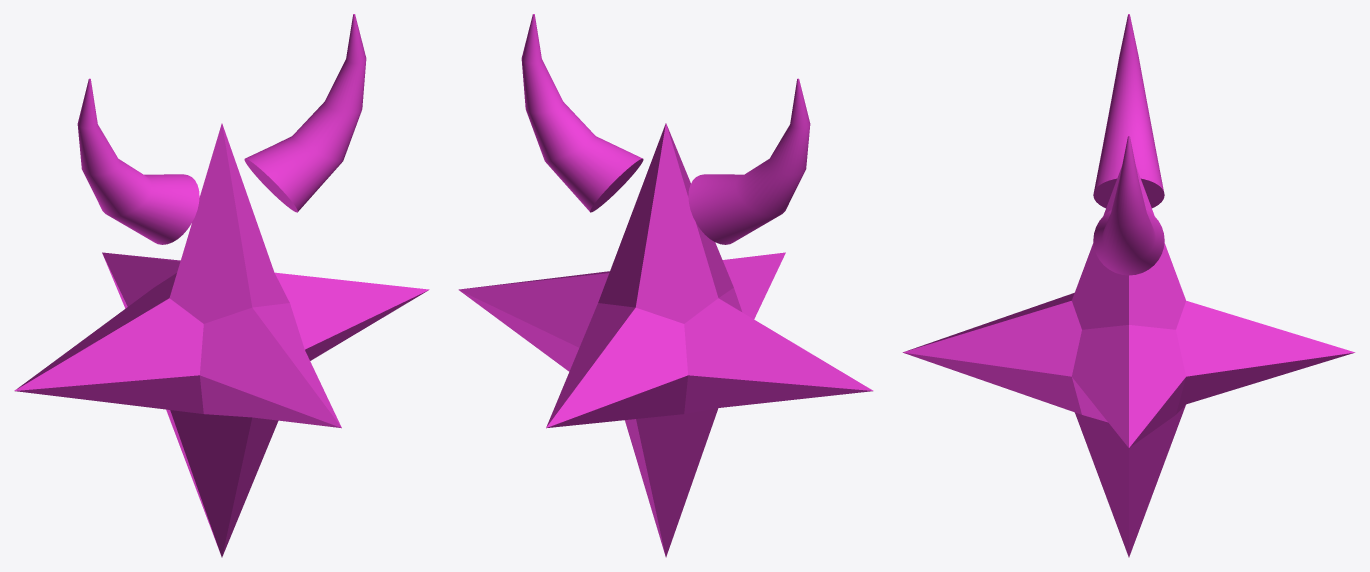
Rendered from Bad Wishes.fbx.
The picture shows the model from 3 angles, left to right: view 1: azimuth 30°, elevation 25°; view 2: azimuth 150°, elevation 25°; view 3: azimuth 270°, elevation 25°; orthographic projection. The views are drawn at different scales.
Visible parts, largest first — view 1: Wish Bad; view 2: Wish Bad; view 3: Wish Bad.
Boxes of the visible parts, bbox=[...] form: Wish Bad: bbox=[14, 14, 429, 557]; Wish Bad: bbox=[458, 14, 873, 557]; Wish Bad: bbox=[902, 14, 1355, 557].
Size of the model in its own units: 483 by 567 by 483.
